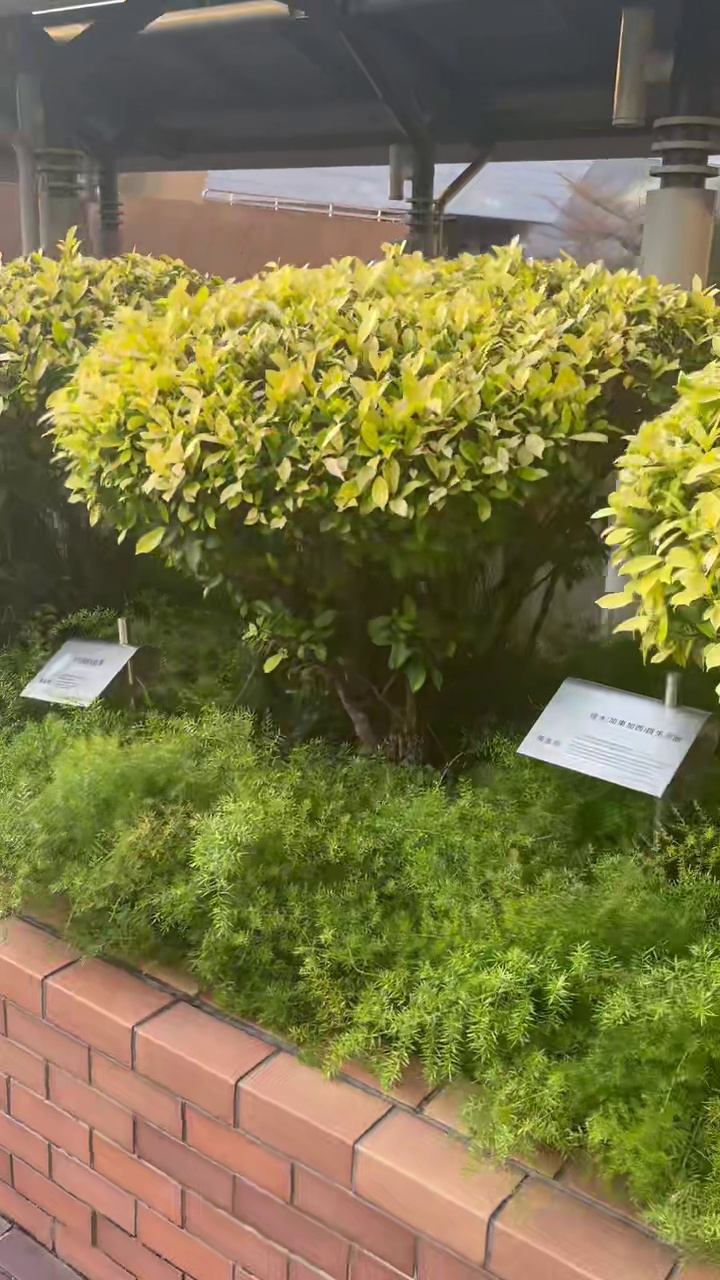Golden-leaves Fig: (43, 244, 719, 761)
